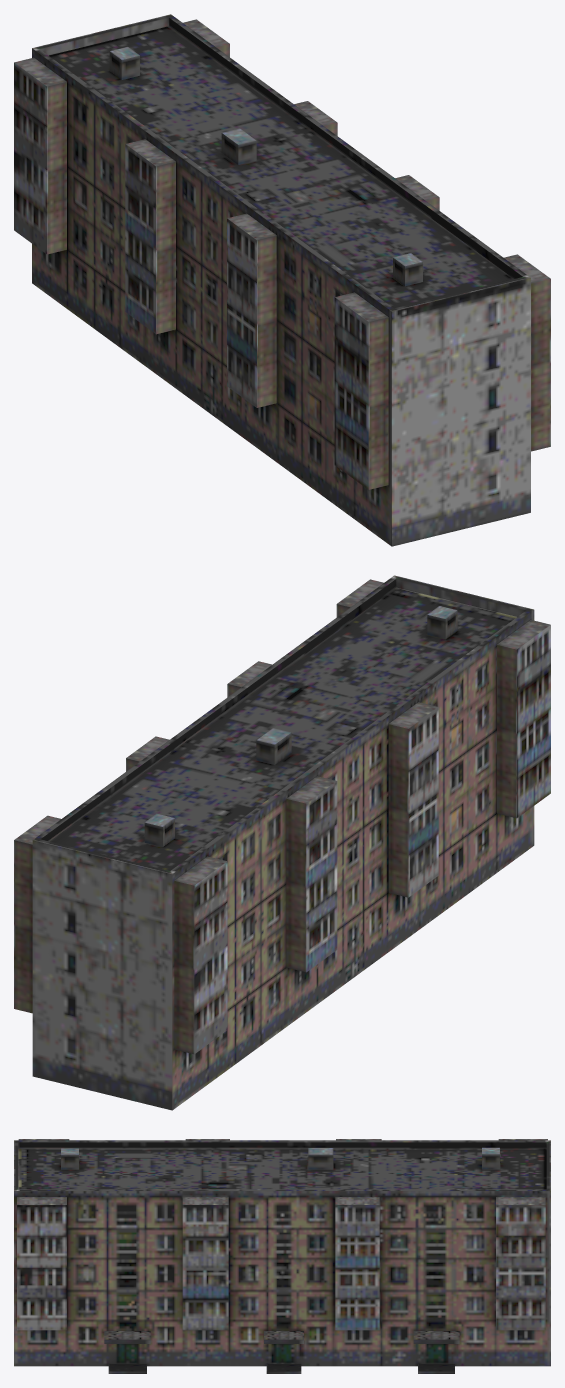
Rendered from soviet_khrushchyovka_-_ps1_style.glb.
The picture shows the model from 3 angles, top to bottom: view 1: azimuth 30°, elevation 25°; view 2: azimuth 150°, elevation 25°; view 3: azimuth 270°, elevation 25°; orthographic projection. The views are drawn at different scales.
Parts seen in each view (by area): view 1: Plane.002_0; view 2: Plane.002_0; view 3: Plane.002_0.
Boxes of the visible parts, x1,y1,x2,y2 form: Plane.002_0: [14, 14, 550, 546]; Plane.002_0: [14, 575, 550, 1110]; Plane.002_0: [14, 1139, 550, 1373].
Size of the model in its own units: 10.74 by 13.76 by 36.44.
Materials: 1 (1 with a texture image).
